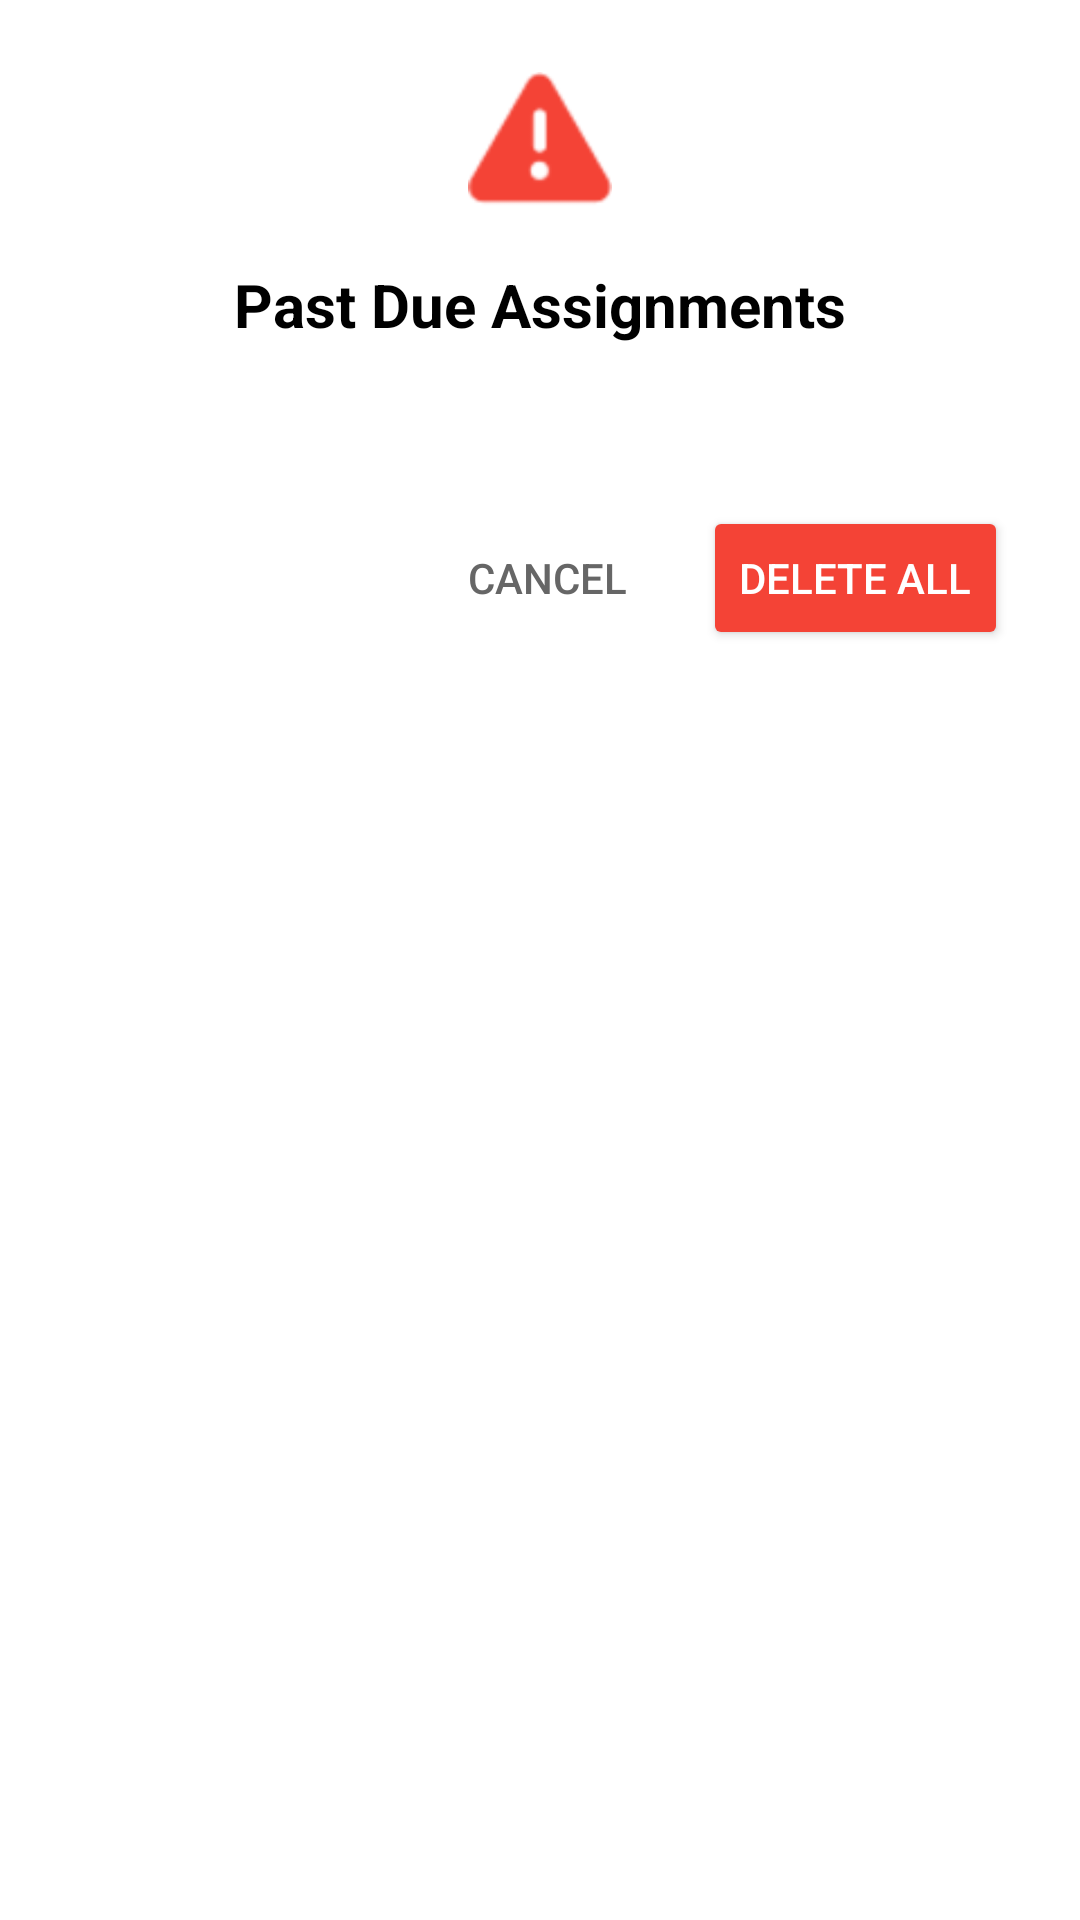

Icon bounding boxes for this 1080*1920 phone screenshot, format box(x1, y1, x2, y2):
alert: box(468, 72, 612, 203)
